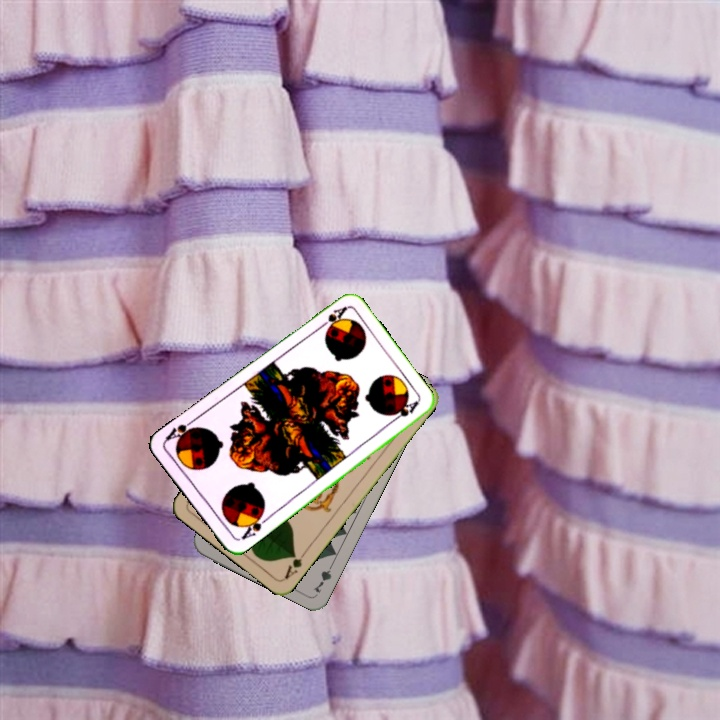G7: (309, 558, 336, 595)
GA: (280, 546, 310, 582)
SA: (237, 508, 271, 542), (314, 302, 349, 335)
